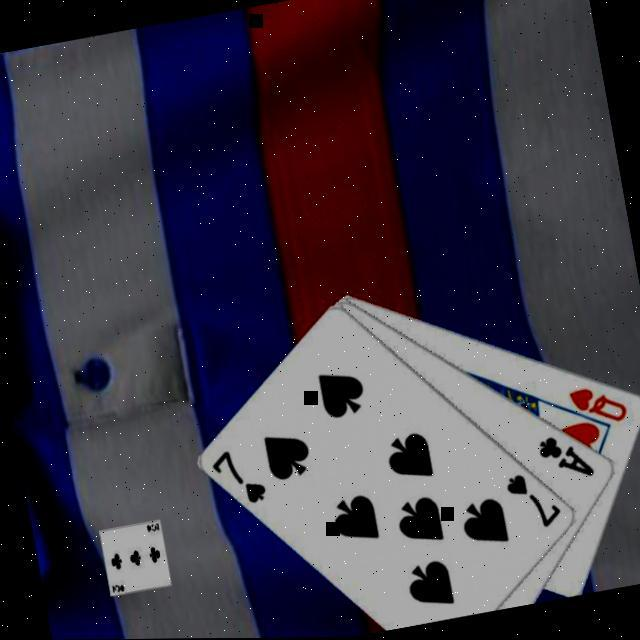7S: (500, 465, 566, 537), (206, 442, 270, 512)
AC: (532, 427, 598, 489)
QH: (564, 378, 631, 434)
